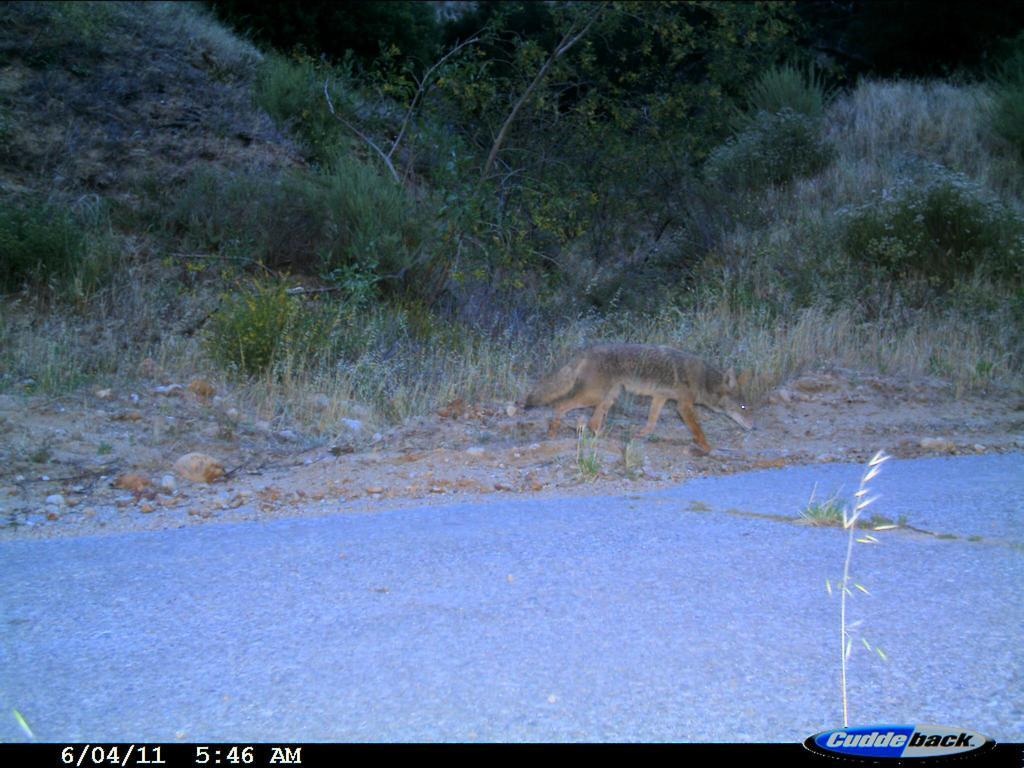coyote: (519, 332, 771, 468)
